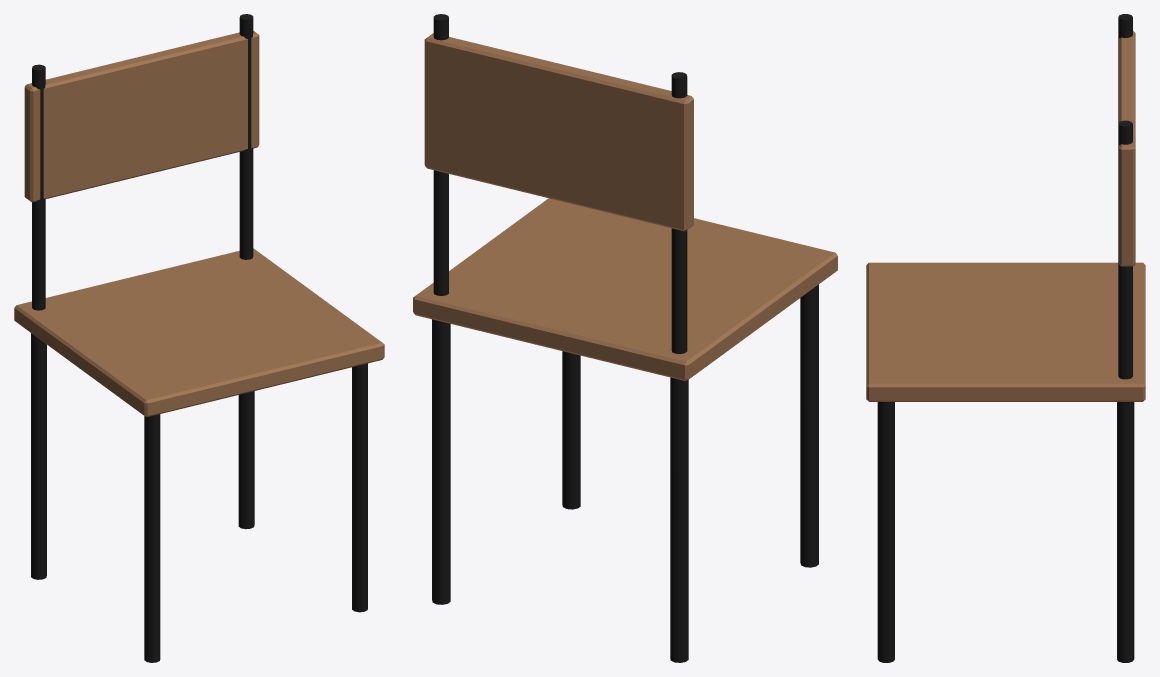
The model's file is 42_krzeslo.glb.
3 views of the same model, side by side, from view 1: azimuth 30°, elevation 25°; view 2: azimuth 150°, elevation 25°; view 3: azimuth 270°, elevation 25° (orthographic). The views are drawn at different scales.
Parts seen in each view (by area): view 1: Krzeslo_siedzisko, Krzeslo_oparcie, Krzeslo_nogi; view 2: Krzeslo_siedzisko, Krzeslo_oparcie, Krzeslo_nogi; view 3: Krzeslo_siedzisko, Krzeslo_nogi, Krzeslo_oparcie.
Boxes of the visible parts, x1=… form: Krzeslo_siedzisko: x1=14, y1=248, x2=384, y2=417; Krzeslo_oparcie: x1=24, y1=31, x2=259, y2=202; Krzeslo_nogi: x1=31, y1=14, x2=367, y2=662; Krzeslo_siedzisko: x1=413, y1=198, x2=837, y2=381; Krzeslo_oparcie: x1=424, y1=33, x2=693, y2=231; Krzeslo_nogi: x1=432, y1=14, x2=818, y2=662; Krzeslo_siedzisko: x1=866, y1=262, x2=1145, y2=401; Krzeslo_nogi: x1=877, y1=14, x2=1134, y2=662; Krzeslo_oparcie: x1=1119, y1=31, x2=1135, y2=266.
Bounding box in the file's own units: 0.44 × 0.89 × 0.42.
